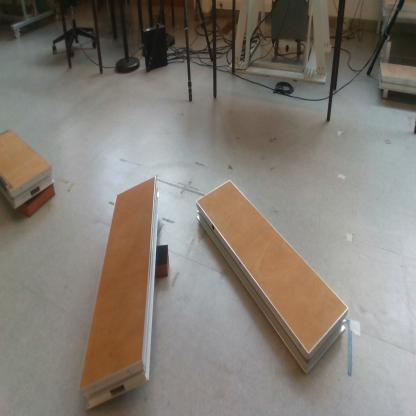Stairs: (197, 182, 348, 377), (81, 177, 159, 411), (1, 129, 55, 211)
